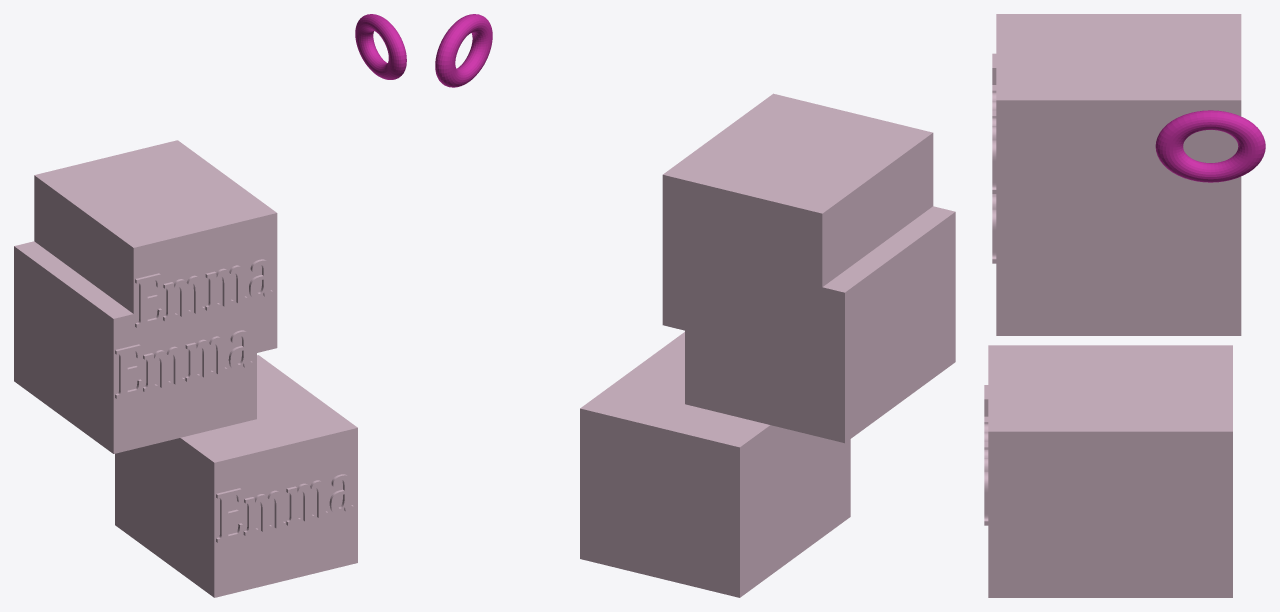
3 renders of one model, left to right at view 1: azimuth 30°, elevation 25°; view 2: azimuth 150°, elevation 25°; view 3: azimuth 270°, elevation 25°, orthographic. The views are drawn at different scales.
Visible parts, largest first — view 1: Mesh_Mesh_head_geo.001_lambert2SG.001; view 2: Mesh_Mesh_head_geo.001_lambert2SG.001; view 3: Mesh_Mesh_head_geo.001_lambert2SG.001.
Boxes of the visible parts, x1,y1,x2,y2 form: Mesh_Mesh_head_geo.001_lambert2SG.001: (14,14,406,597); Mesh_Mesh_head_geo.001_lambert2SG.001: (435,14,955,597); Mesh_Mesh_head_geo.001_lambert2SG.001: (984,14,1265,597).
Size of the model in its own units: 0.126 by 0.15 by 0.069.
